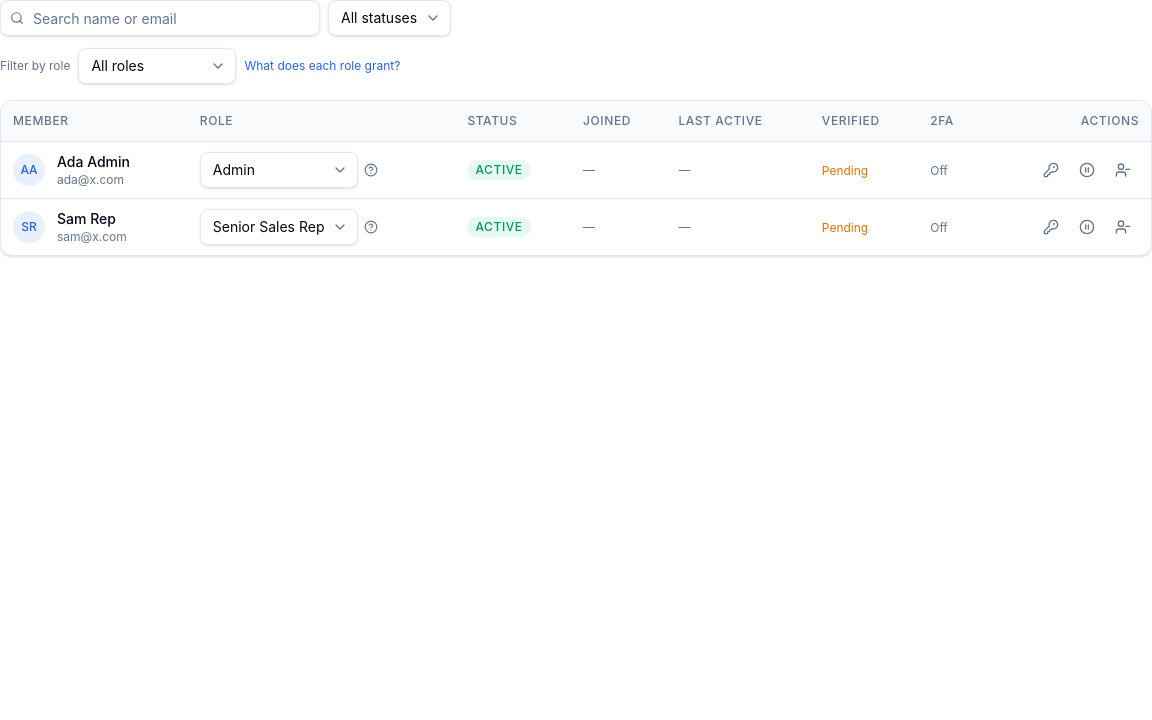
Test: MembersList — lead-routing disclosure on removal › warns in the reassignment dialog which lead sources the member owns
This screenshot has width=1152, height=720.
Step 1. Click the button titled "Remove Member" in the row of "sam@x.com" → (1123, 226), box [1107,210,1139,242]
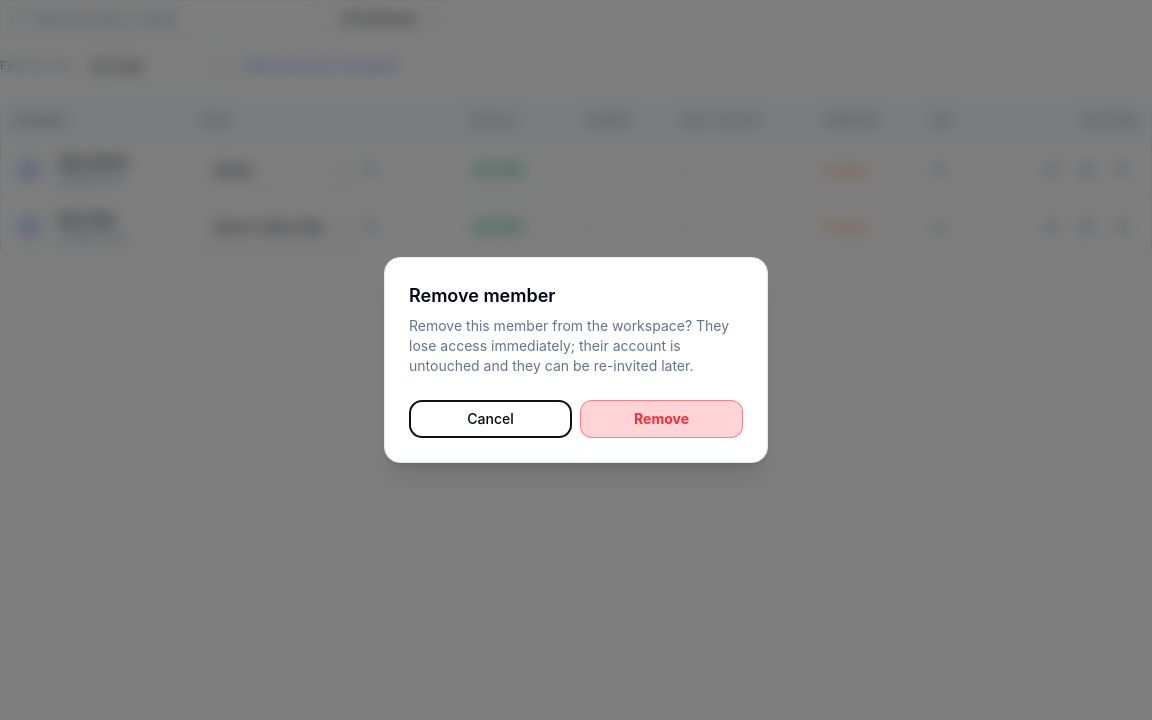
Step 2. Click the button "Remove" → (662, 419), box [580,400,743,438]
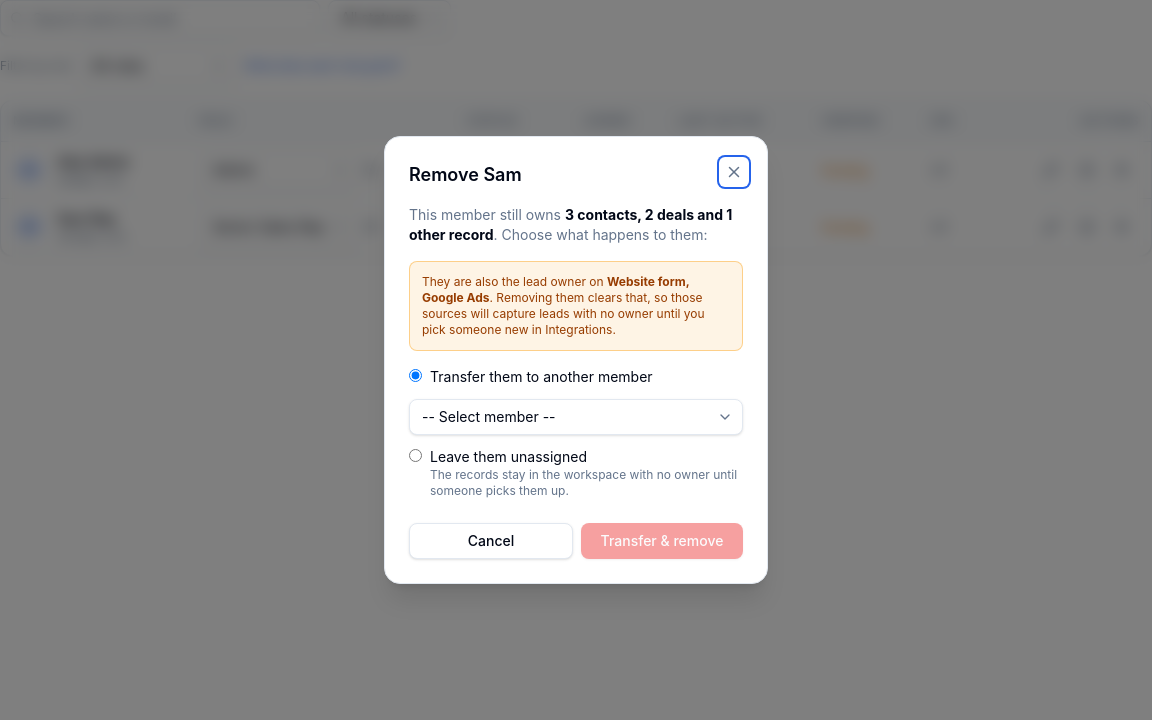
Now the text "Website form, Google Ads" is shown, box [422,274,689,305]
Now the text "capture leads with no owner" is shown, box [422,290,705,337]
